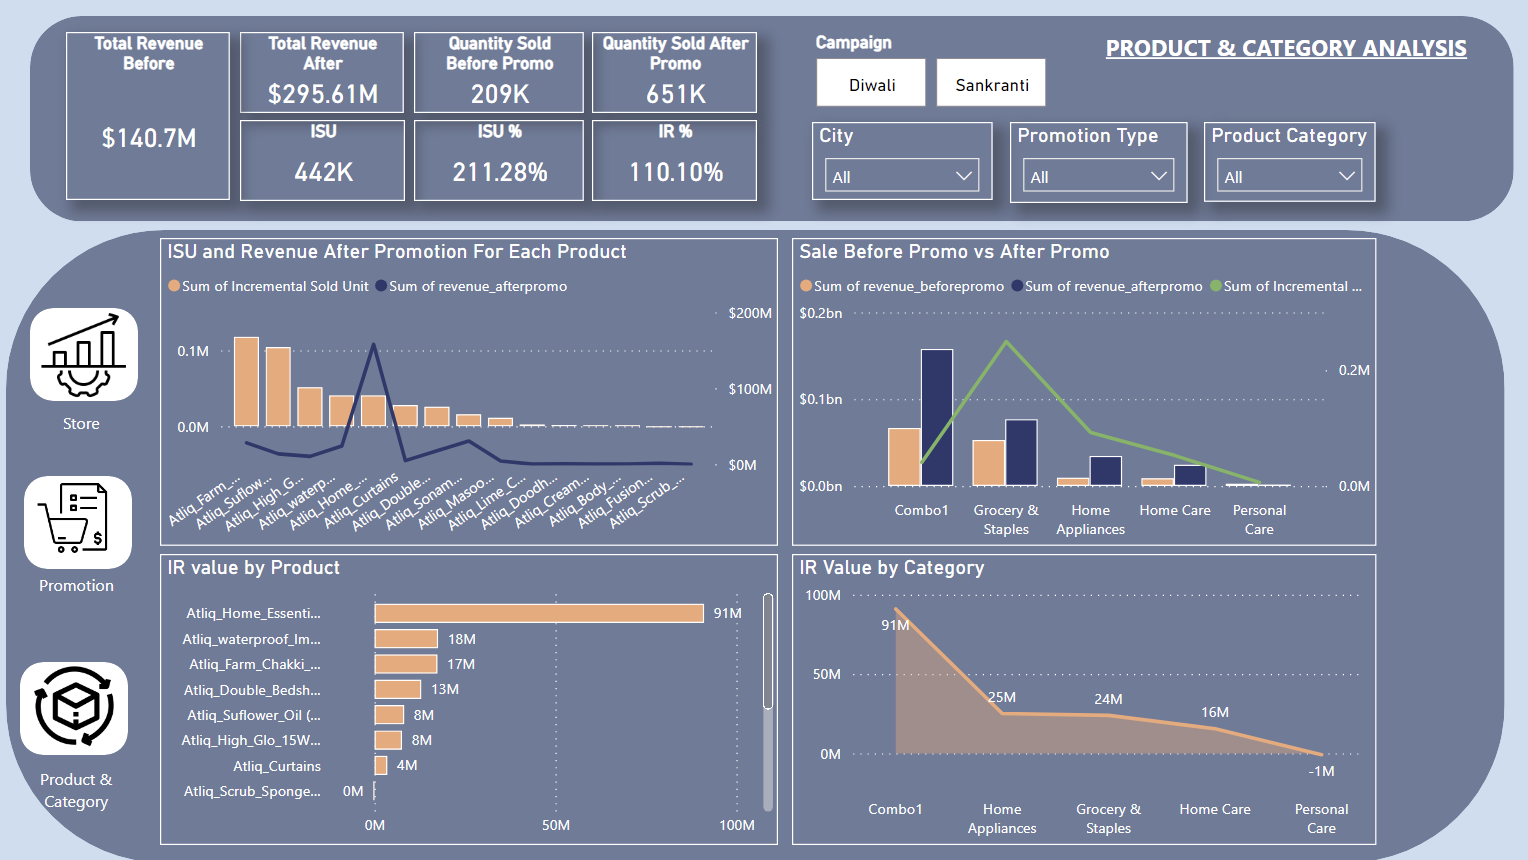

Layout of this report page (visuals, bound fields, positions):
{"tool":"powerbi","page":{"name":"Product & Category Analysis","canvas":[1280,720],"ordinal":2},"visuals":[{"type":"shape","box":[7.8,192.9,1248.9,527.2],"z":0},{"type":"shape","box":[20,552.6,90,77.5],"z":0,"group":"g2"},{"type":"shape","box":[28,15.6,1236.5,171.1],"z":1000},{"type":"shape","box":[23.8,397.6,90,77.5],"z":1000,"group":"g2"},{"type":"shape","box":[28.8,258.9,90,77.5],"z":2000,"group":"g2"},{"type":"textbox","box":[9.3,636.1,113.5,52.9],"z":2000},{"type":"group","id":"g1","title":"Group 1","box":[59.1,23.3,1174.2,147.8],"z":3000},{"type":"image","box":[0,255.1,146.2,85],"z":3000,"group":"g2"},{"type":"card","title":"Total Revenue After ","fields":{"Values":["fact_events.Total Revenue After Promotion"]},"box":[204.1,28.5,136.2,67.5],"z":4000,"group":"g1"},{"type":"group","id":"g2","title":"Group 2","box":[0,255.1,146.2,395],"z":4000},{"type":"textbox","box":[16.2,340.1,112.5,33.8],"z":4000,"group":"g2"},{"type":"card","title":"Total Revenue Before","fields":{"Values":["dim_campaigns.Total Revenue Before Promotion"]},"box":[59.1,28.5,136.2,140],"z":5000,"group":"g1"},{"type":"lineClusteredColumnComboChart","title":"ISU and Revenue After Promotion For Each Product","fields":{"Category":["dim_products.product_name"],"Y":["Sum(fact_events.Incremental Sold Unit)"],"Y2":["Sum(fact_events.revenue_afterpromo)"]},"box":[136.9,200.6,514.8,256.6],"z":5000},{"type":"image","box":[26.2,397.6,73.8,70],"z":5000,"group":"g2"},{"type":"card","title":"Quantity Sold Before Promo","fields":{"Values":["Sum(fact_events.quantity_sold(before_promo))"]},"box":[349.1,28.5,141.2,67.5],"z":6000,"group":"g1"},{"type":"clusteredBarChart","title":"IR value by Product","fields":{"Category":["dim_products.product_name"],"Y":["Sum(fact_events.Incremental Revenue)"]},"box":[136.9,463.5,514.8,242.6],"z":6000},{"type":"image","box":[26.2,530.1,76.2,120],"z":6000,"group":"g2"},{"type":"card","title":"Quantity Sold After Promo","fields":{"Values":["fact_events.Sum of quantity sold(after_promo)"]},"box":[496.6,28.5,137.5,67.5],"z":7000,"group":"g1"},{"type":"lineClusteredColumnComboChart","title":"Sale Before Promo vs After Promo","fields":{"Category":["dim_products.category"],"Y":["Sum(fact_events.revenue_beforepromo)","Sum(fact_events.revenue_afterpromo)"],"Y2":["Sum(fact_events.Incremental Sold Unit)"]},"box":[664.1,200.6,486.8,256.6],"z":7000},{"type":"textbox","box":[0,475.1,137.5,31.2],"z":7000,"group":"g2"},{"type":"card","title":"ISU ","fields":{"Values":["fact_events.ISU"]},"box":[204.1,101,137.5,67.5],"z":8000,"group":"g1"},{"type":"areaChart","title":"IR Value by Category","fields":{"Category":["dim_products.category"],"Y":["Sum(fact_events.Incremental Revenue)"]},"box":[664.1,463.5,486.8,242.6],"z":8000},{"type":"card","title":"ISU %","fields":{"Values":["fact_events.ISU %"]},"box":[349.1,101,141.2,67.5],"z":9000,"group":"g1"},{"type":"card","title":"IR %","fields":{"Values":["fact_events.Incremental Revenue %"]},"box":[496.6,101,137.5,67.5],"z":12000,"group":"g1"},{"type":"advancedSlicerVisual","title":"Campaign","fields":{"Values":["dim_campaigns.campaign_name"]},"box":[679.8,28.4,302.2,67.6],"z":16000,"group":"g1"},{"type":"slicer","title":"City","fields":{"Values":["dim_stores.city"]},"box":[681.1,103.6,150.4,65],"z":17000,"group":"g1"},{"type":"slicer","title":"Promotion Type","fields":{"Values":["fact_events.promo_type"]},"box":[845.6,103.6,147.9,67.6],"z":18000,"group":"g1"},{"type":"slicer","title":"Product Category","fields":{"Values":["dim_products.category"]},"box":[1007.5,103.6,142.8,66.3],"z":19000,"group":"g1"},{"type":"textbox","box":[919.2,23.3,314.2,71.5],"z":23000,"group":"g1"}]}

Visuals, with their boxes in screenshot pixels (x1, y1, x2, y2), scaled from the page's 1280x720 canvas onto the 1528x860 screenshot:
shape: bbox=[9, 230, 1500, 859]
shape: bbox=[24, 660, 131, 753]
shape: bbox=[33, 19, 1509, 223]
shape: bbox=[28, 475, 136, 567]
shape: bbox=[34, 309, 142, 402]
textbox: bbox=[11, 760, 147, 823]
"Group 1" group: bbox=[71, 28, 1472, 204]
image: bbox=[0, 305, 175, 406]
"Total Revenue After " card: bbox=[244, 34, 406, 115]
"Group 2" group: bbox=[0, 305, 175, 777]
textbox: bbox=[19, 406, 154, 447]
"Total Revenue Before" card: bbox=[71, 34, 233, 201]
"ISU and Revenue After Promotion For Each Product" lineClusteredColumnComboChart: bbox=[163, 240, 778, 546]
image: bbox=[31, 475, 119, 559]
"Quantity Sold Before Promo" card: bbox=[417, 34, 585, 115]
"IR value by Product" clusteredBarChart: bbox=[163, 554, 778, 843]
image: bbox=[31, 633, 122, 777]
"Quantity Sold After Promo" card: bbox=[593, 34, 757, 115]
"Sale Before Promo vs After Promo" lineClusteredColumnComboChart: bbox=[793, 240, 1374, 546]
textbox: bbox=[0, 567, 164, 605]
"ISU " card: bbox=[244, 121, 408, 201]
"IR Value by Category" areaChart: bbox=[793, 554, 1374, 843]
"ISU %" card: bbox=[417, 121, 585, 201]
"IR %" card: bbox=[593, 121, 757, 201]
"Campaign" advancedSlicerVisual: bbox=[812, 34, 1172, 115]
"City" slicer: bbox=[813, 124, 993, 201]
"Promotion Type" slicer: bbox=[1009, 124, 1186, 204]
"Product Category" slicer: bbox=[1203, 124, 1373, 203]
textbox: bbox=[1097, 28, 1472, 113]
